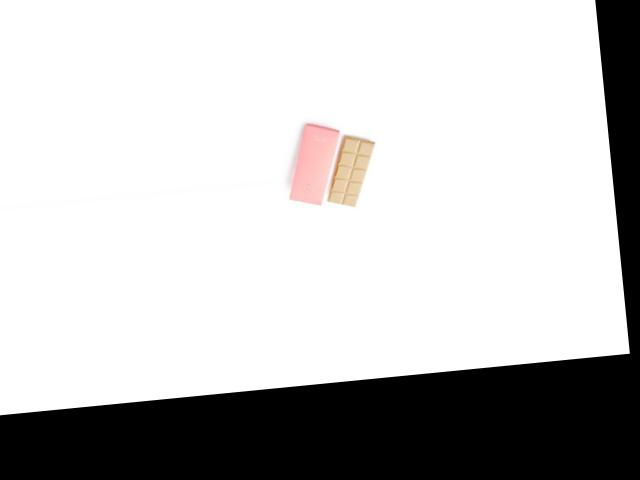chocolate: (317, 129, 381, 211)
